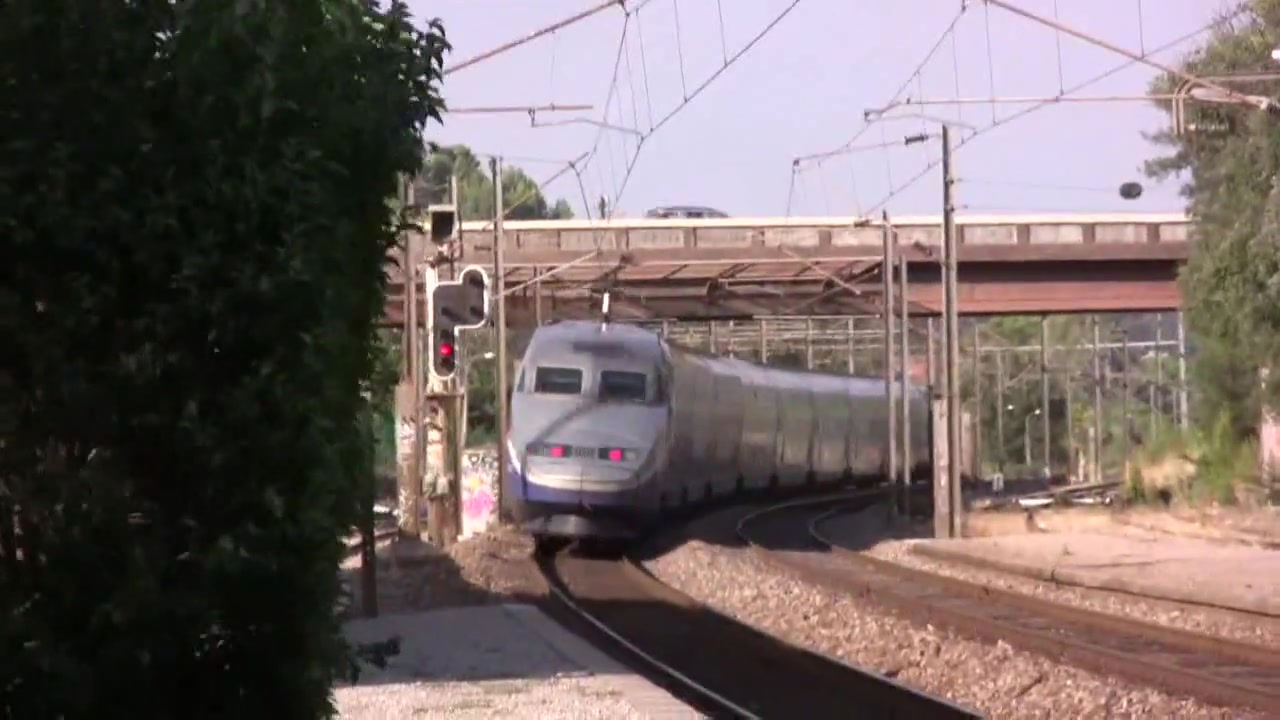train: (501, 321, 891, 543)
